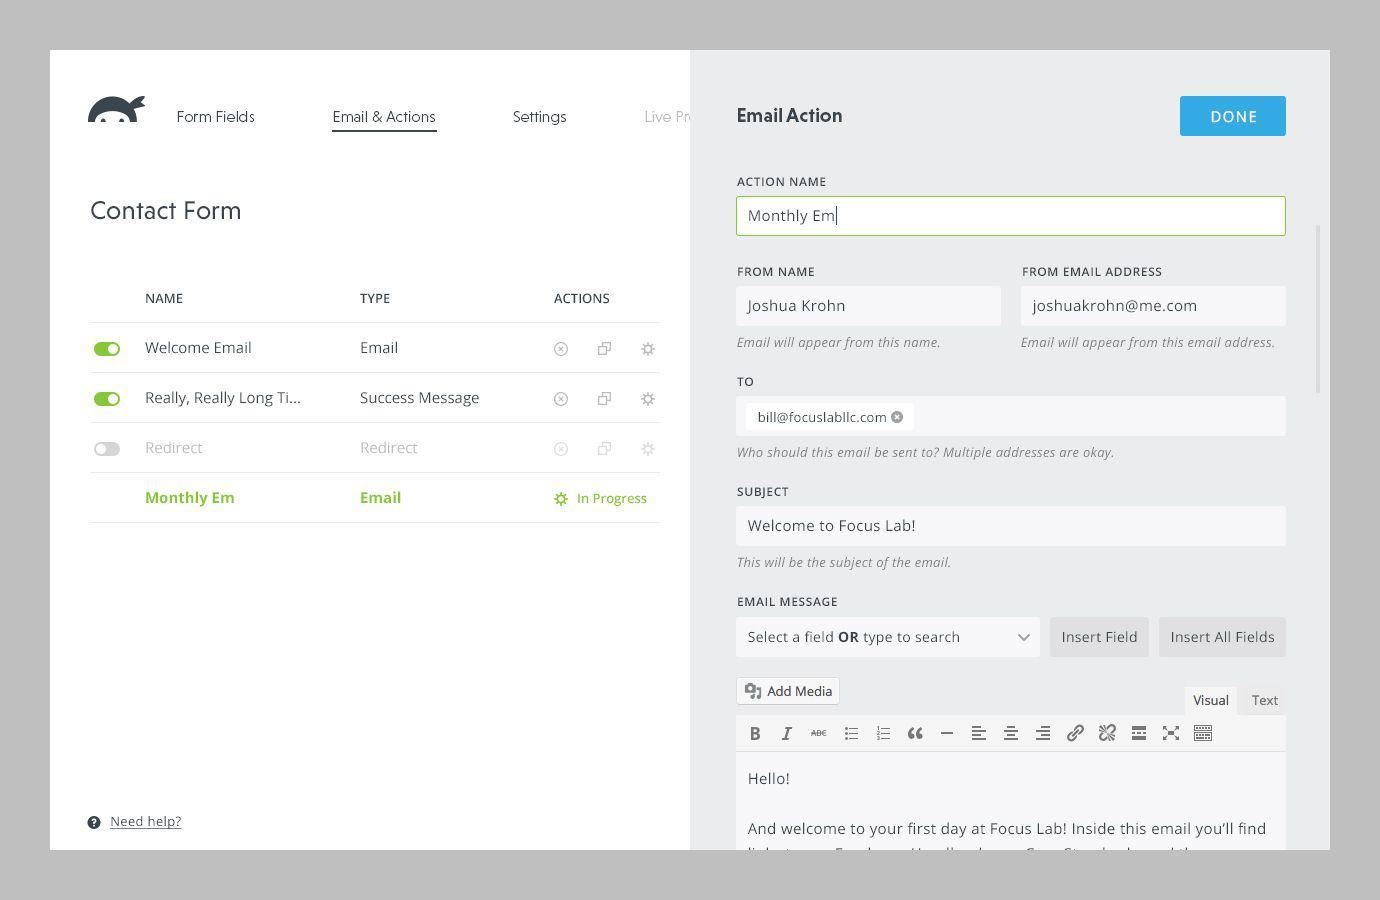button: (1158, 617, 1288, 657), (1180, 95, 1287, 137), (1050, 616, 1152, 659), (737, 678, 841, 705)
dropdown: (736, 618, 1043, 658)
icon: (1035, 722, 1055, 749), (1192, 724, 1216, 746), (1097, 722, 1118, 747), (1159, 724, 1184, 744), (971, 723, 990, 749), (1129, 723, 1150, 746), (1001, 722, 1021, 746), (1065, 724, 1087, 745), (875, 724, 895, 747), (905, 726, 926, 747), (937, 725, 957, 746), (554, 338, 570, 361), (640, 339, 658, 359), (781, 725, 797, 747), (596, 390, 615, 409), (596, 339, 616, 357), (843, 725, 861, 744), (810, 727, 830, 744), (596, 439, 615, 458), (554, 490, 571, 509), (553, 391, 571, 408), (640, 392, 658, 409), (553, 440, 569, 458), (643, 442, 658, 459)
input: (737, 506, 1296, 551), (737, 197, 1287, 238), (738, 396, 1287, 437), (735, 285, 1004, 329), (1021, 286, 1289, 328)
label: (1019, 260, 1169, 282), (735, 173, 830, 191), (735, 263, 823, 283), (733, 595, 842, 610), (735, 484, 794, 501), (735, 373, 757, 390)
switch: (95, 392, 122, 409), (95, 342, 122, 358), (95, 443, 122, 457)
